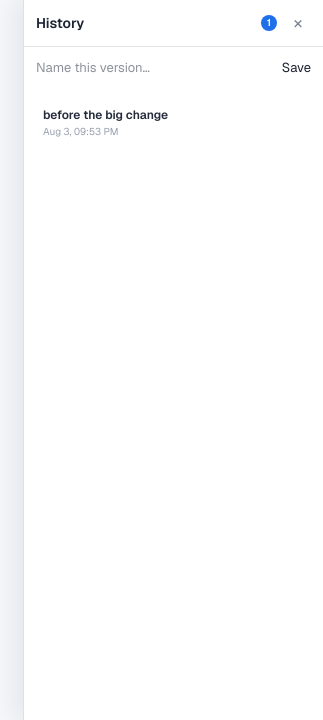
Test: VersionsPanel › does not offer to restore until the diff has been shown
Check: the button "Restore" is not shown
Click the text "before the big change" at (106, 116), box [43,107,168,124]
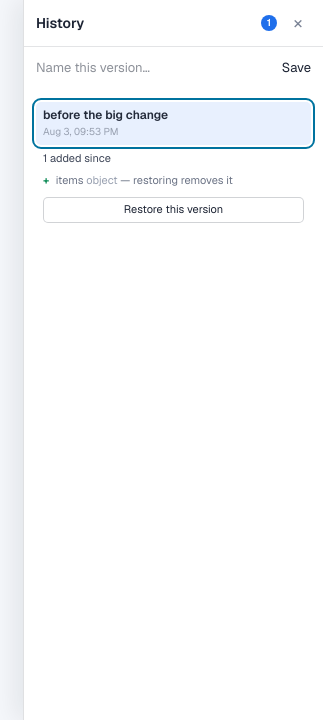
Check: the text "1 added since" is shown, box [43,151,111,165]
Check: the list item "+ items object — restoring removes it" is shown, box [43,173,233,187]
Check: the button "Restore this version" is enabled, box [43,197,304,222]
